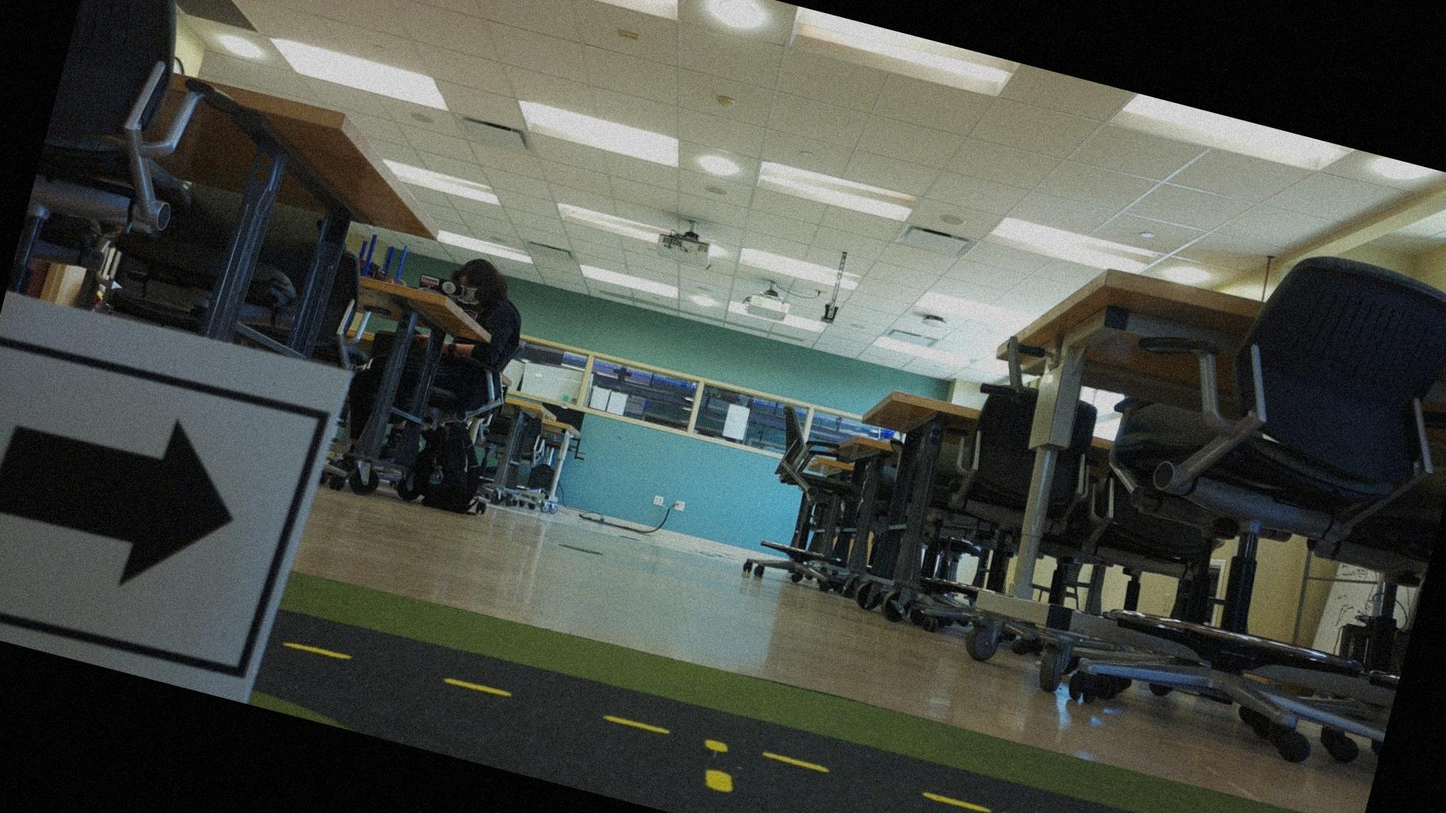turnright: (0, 341, 316, 681)
yellowline: (282, 614, 1331, 812), (691, 737, 746, 800)
